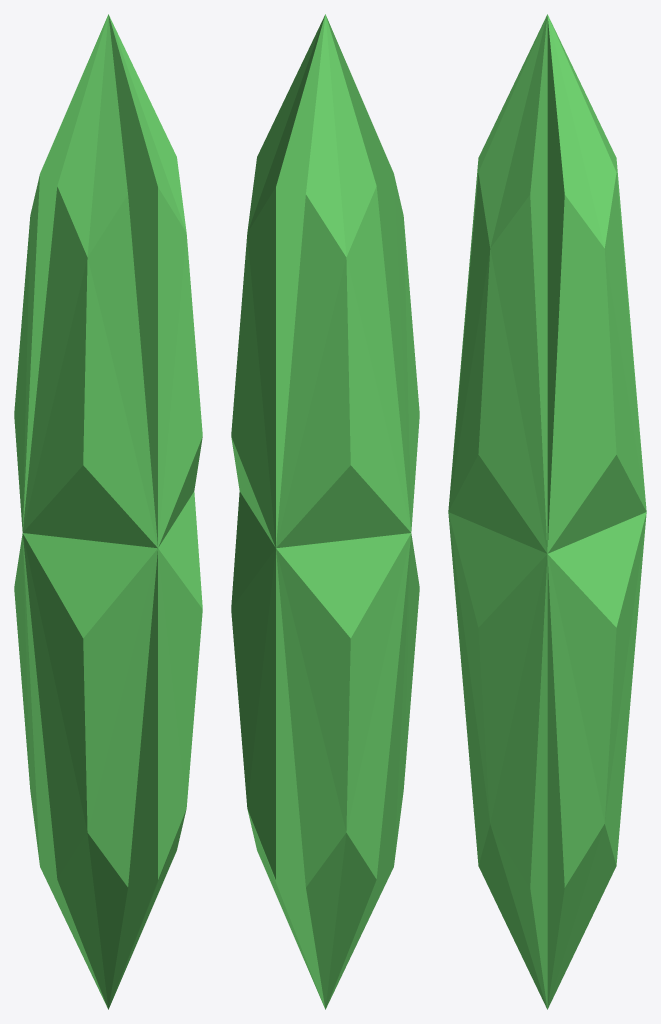
File: Mine4.fbx
3 views of the same model, side by side, from view 1: azimuth 30°, elevation 25°; view 2: azimuth 150°, elevation 25°; view 3: azimuth 270°, elevation 25° (orthographic).
Parts seen in each view (by area): view 1: pPlatonic1; view 2: pPlatonic1; view 3: pPlatonic1.
Boxes of the visible parts, x1=… form: pPlatonic1: x1=14, y1=14, x2=202, y2=1009; pPlatonic1: x1=231, y1=14, x2=419, y2=1009; pPlatonic1: x1=448, y1=14, x2=646, y2=1009.
Size of the model in its own units: 2 by 11.08 by 2.
